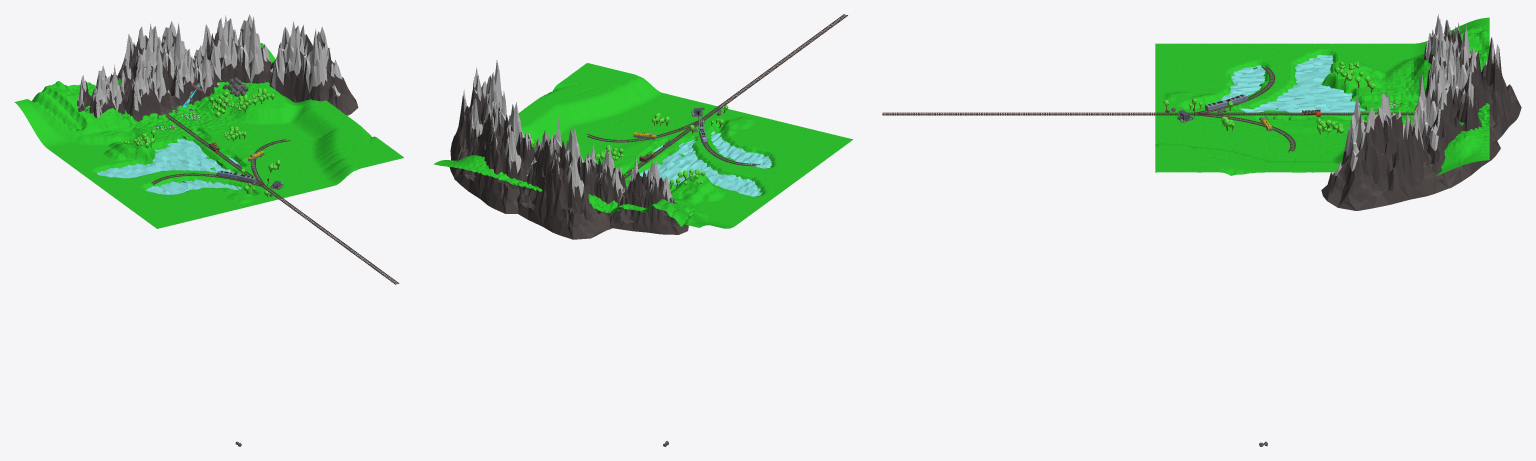
3 views of the same model, side by side, from view 1: azimuth 30°, elevation 25°; view 2: azimuth 150°, elevation 25°; view 3: azimuth 270°, elevation 25° (orthographic). The views are drawn at different scales.
Parts seen in each view (by area): view 1: Plane, mountains_2.005, mountains_2.004, Plane.001, mountains_2, mountains_2.003, mountains_2.002, mountains_2.001, rails.002; view 2: Plane, mountains_2.003, mountains_2.004, mountains_2.001, Plane.001, mountains_2.005, mountains_2, rails.002; view 3: Plane, mountains_2.005, mountains_2.004, mountains_2.003, Plane.001, rails.002, mountains_2.001.
Boxes of the visible parts, x1,y1,x2,y2 form: Plane: [14, 43, 403, 228]; mountains_2.005: [269, 21, 358, 115]; mountains_2.004: [202, 14, 272, 83]; Plane.001: [97, 138, 241, 194]; mountains_2: [119, 56, 176, 121]; mountains_2.003: [112, 21, 187, 92]; mountains_2.002: [170, 45, 219, 106]; mountains_2.001: [77, 64, 125, 118]; rails.002: [165, 114, 399, 284]; Plane: [434, 63, 853, 228]; mountains_2.003: [517, 116, 612, 239]; mountains_2.004: [454, 91, 534, 213]; mountains_2.001: [610, 156, 688, 234]; Plane.001: [640, 131, 771, 196]; mountains_2.005: [449, 60, 502, 177]; mountains_2: [586, 143, 626, 218]; rails.002: [623, 14, 847, 178]; Plane: [1155, 17, 1489, 176]; mountains_2.005: [1321, 87, 1448, 210]; mountains_2.004: [1412, 62, 1500, 188]; mountains_2.003: [1444, 25, 1521, 140]; Plane.001: [1208, 55, 1365, 120]; rails.002: [882, 112, 1413, 115]; mountains_2.001: [1423, 14, 1461, 65].
Bounding box in the file's own units: 15244 × 18404 × 25292.
